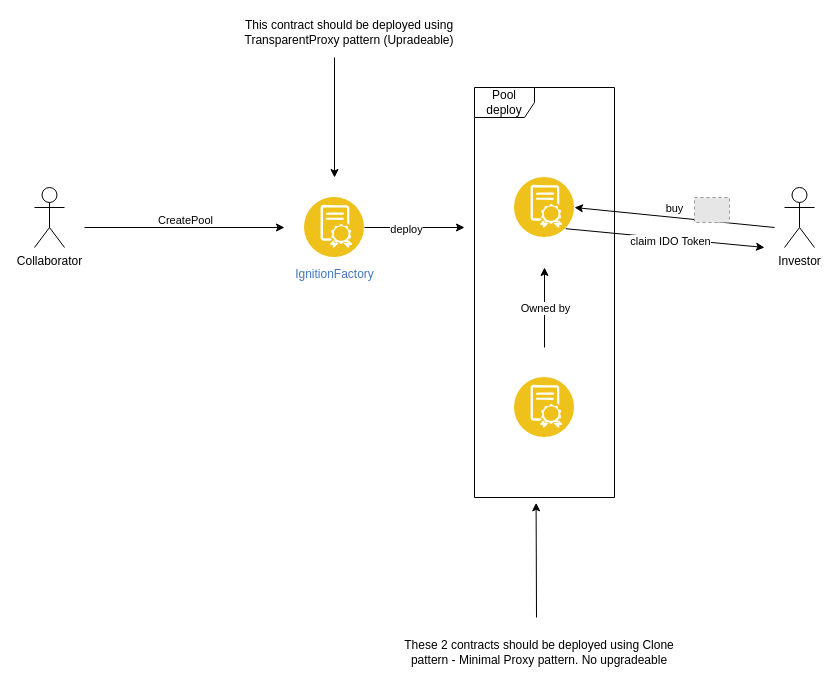
Some shapes in this 838 by 684 pixel diagram are drawn without their labels. Grey dashed boxes stand in for pictures. The centre of each missing label's shape, as x and y in pixels:
Pool: the point at 544,207
Vesting: the point at 544,407
